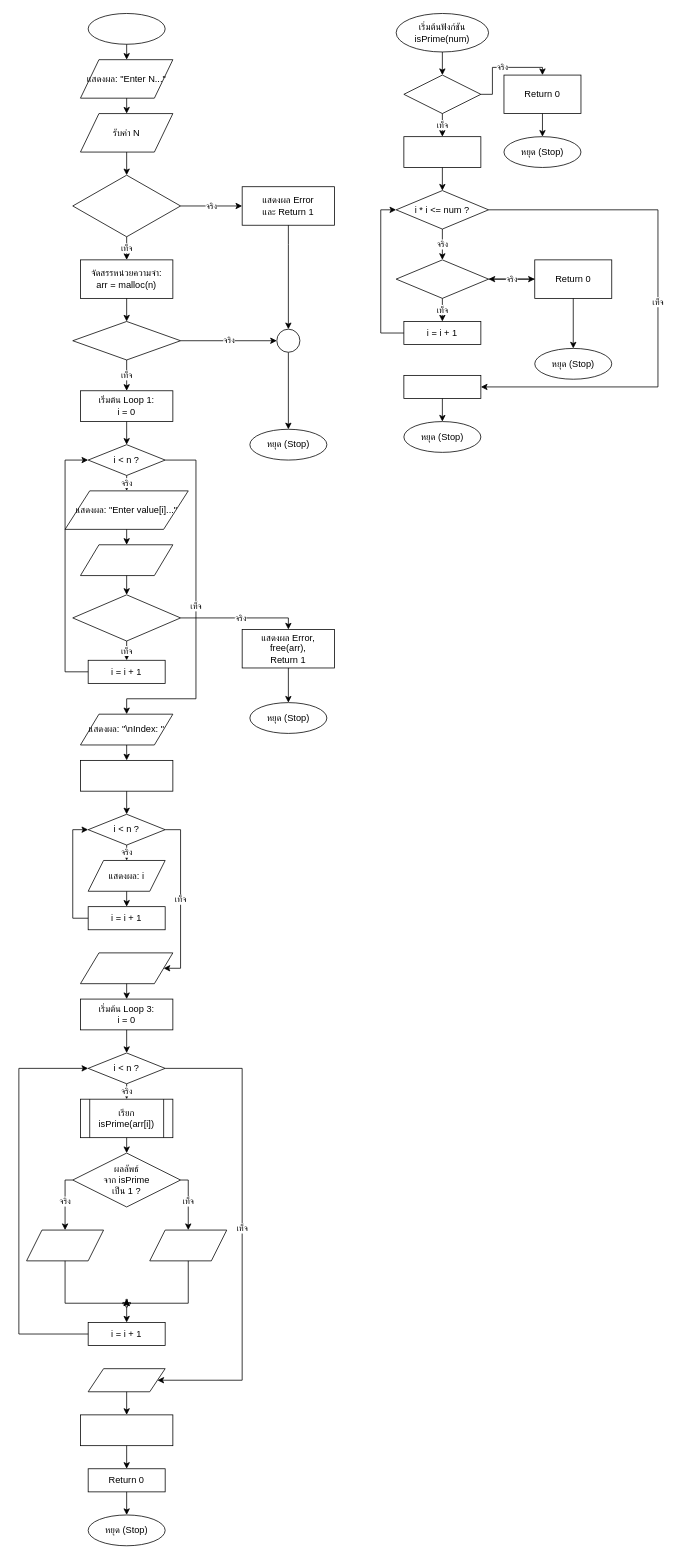
Some shapes in this 678 by 1559 pixel diagram are drawn without their labels. Each missing label, with the centre of its shape:
arr == NULL ?: point 126,340
num % i == 0 ?: point 442,278
num < 2 ?: point 442,94
Return 1: point 442,386
คืนหน่วยความจำ: free(arr): point 126,1430
รับค่า arr[i]: point 126,560
รับค่า arr[i] ไม่สำเร็จ ?: point 126,617
รับค่า N ไม่สำเร็จ หรือ N <= 0 ?: point 126,205
เริ่ม (Start): point 126,28
เริ่มต้น Loop 2: i = 0: point 126,775
เริ่มต้น Loop: i = 2: point 442,151
แสดงผล: "#": point 188,1245
แสดงผล: "\n": point 126,1380
แสดงผล: "\nArray: ": point 126,968
แสดงผล: arr[i]: point 65,1245
